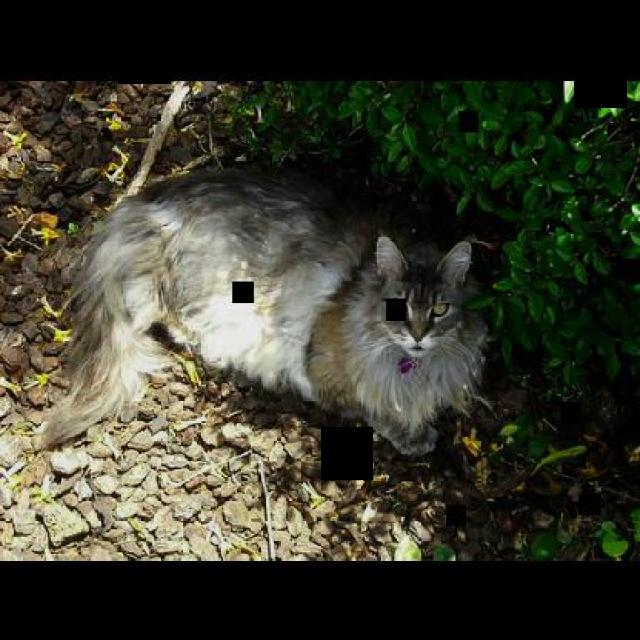unauthorized: (38, 166, 494, 457)
